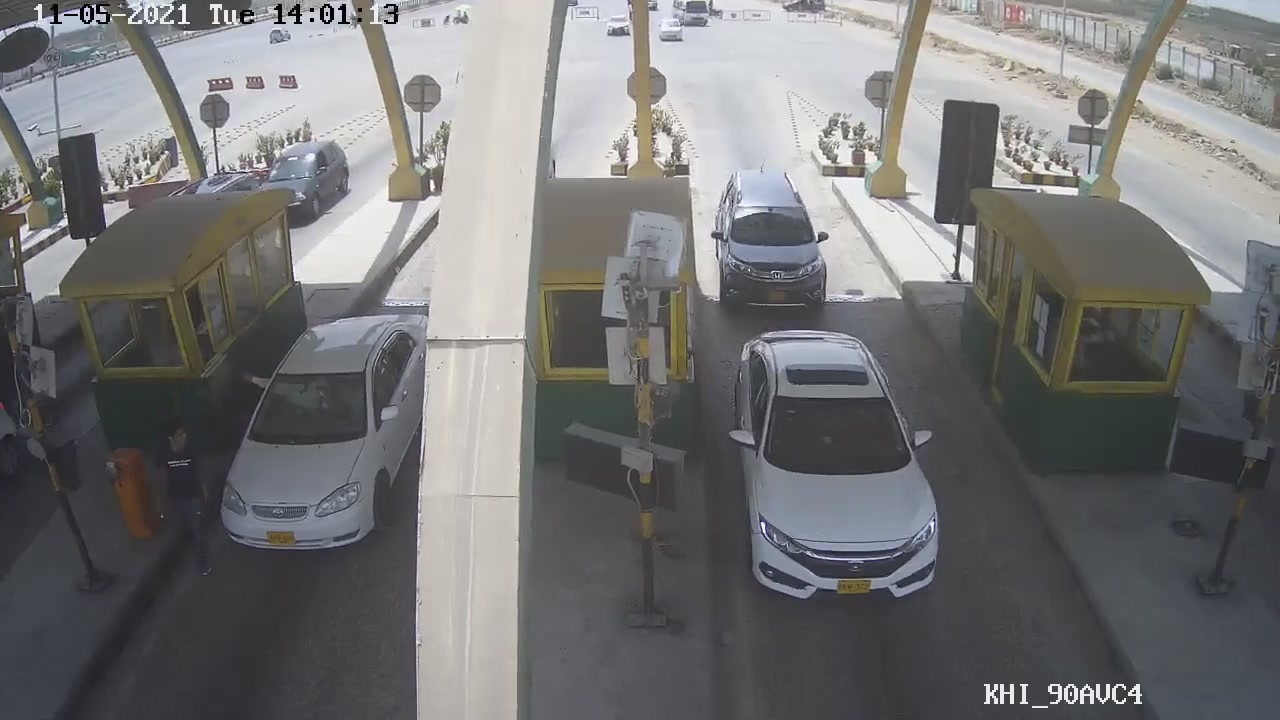F1: (726, 324, 946, 618), (713, 156, 834, 318)
